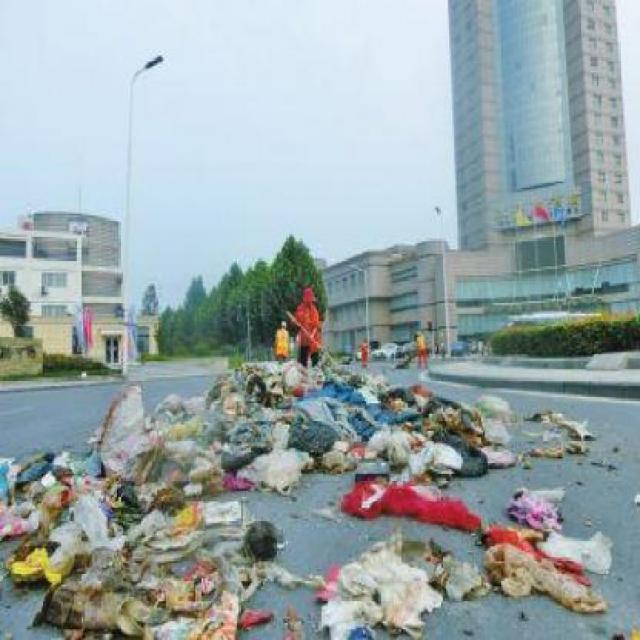garbage: (8, 446, 229, 636), (349, 463, 623, 614), (183, 353, 374, 479), (314, 531, 468, 627), (360, 392, 488, 494), (517, 396, 610, 485)
